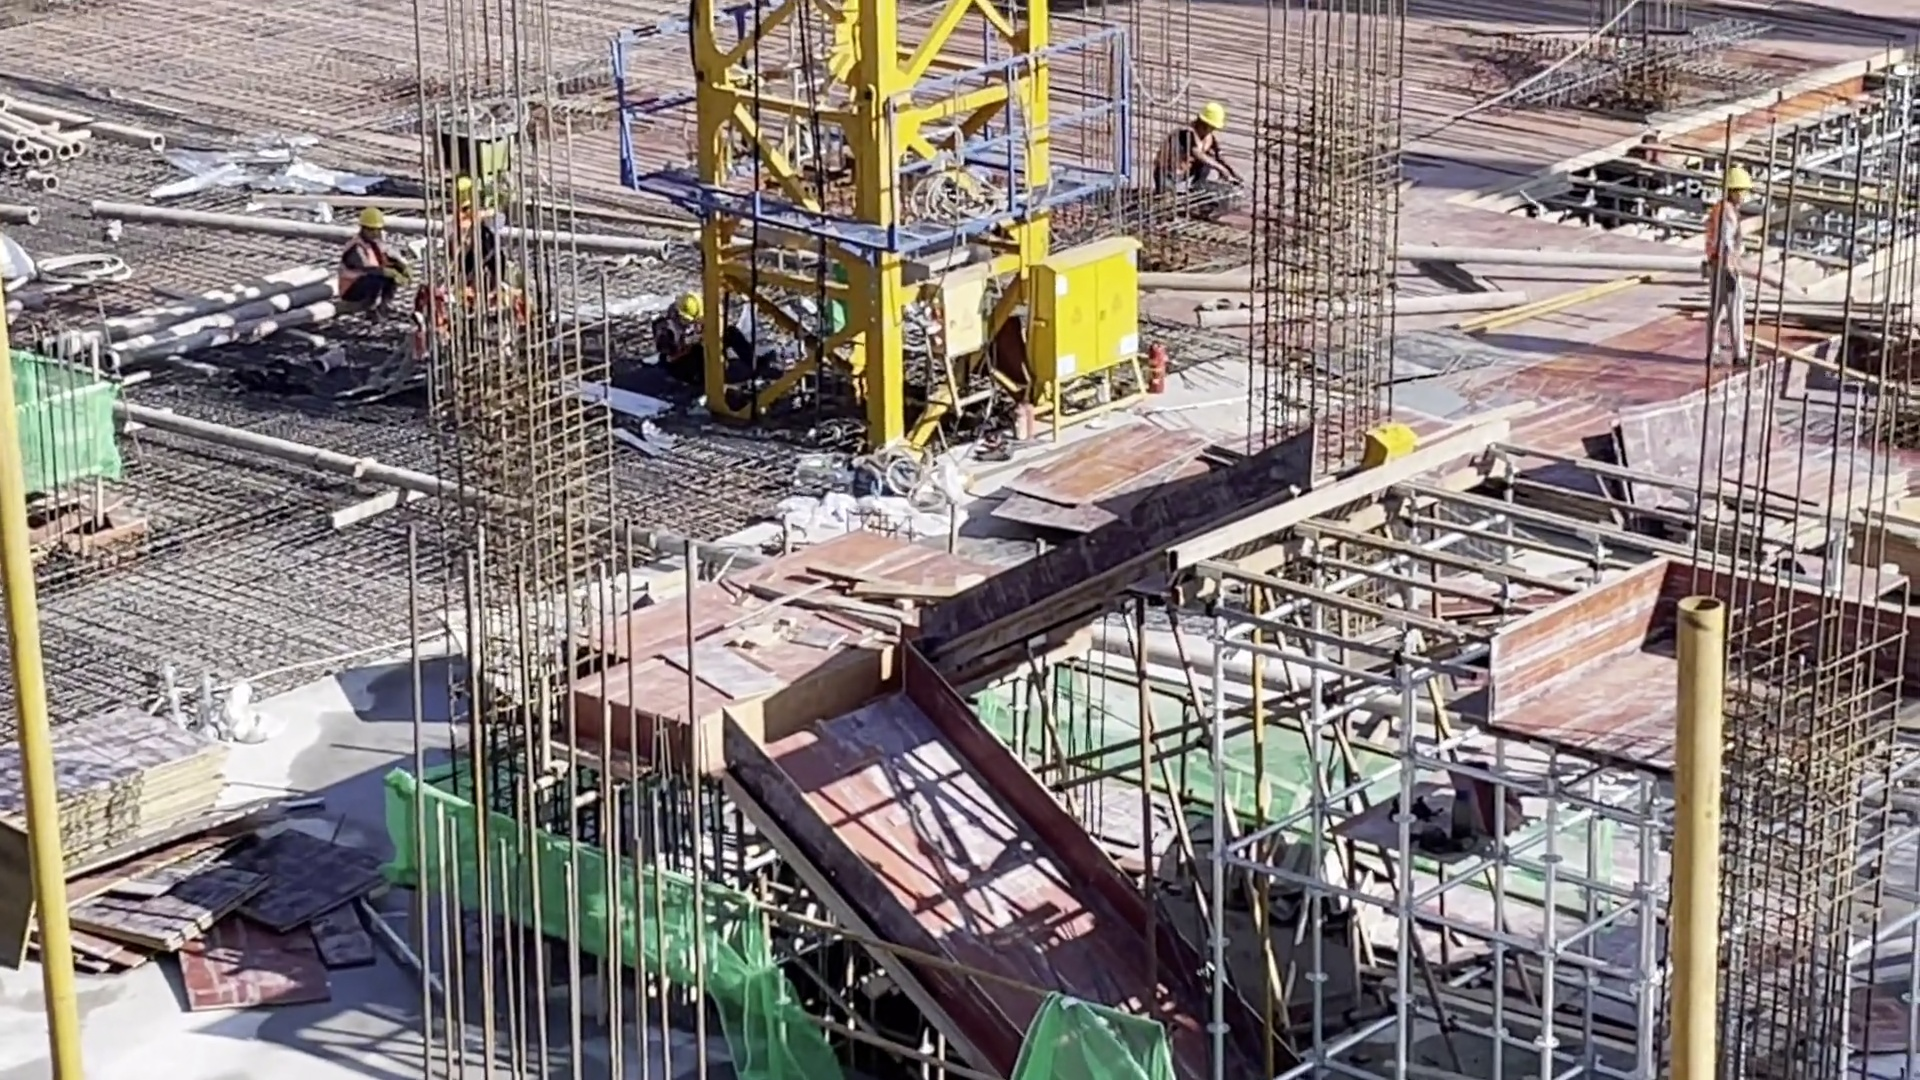board: (58, 812, 418, 1021), (1, 690, 245, 895)
ebox: (1025, 239, 1149, 433), (927, 255, 1003, 418), (1374, 380, 1436, 430)
helmet: (350, 209, 390, 237), (1197, 99, 1231, 133), (676, 292, 706, 321), (1723, 168, 1753, 193)
person: (1700, 170, 1756, 371), (329, 206, 414, 322), (1151, 95, 1231, 202), (651, 290, 704, 389)
vest: (1163, 129, 1224, 193), (1702, 204, 1750, 280), (338, 245, 380, 311)
